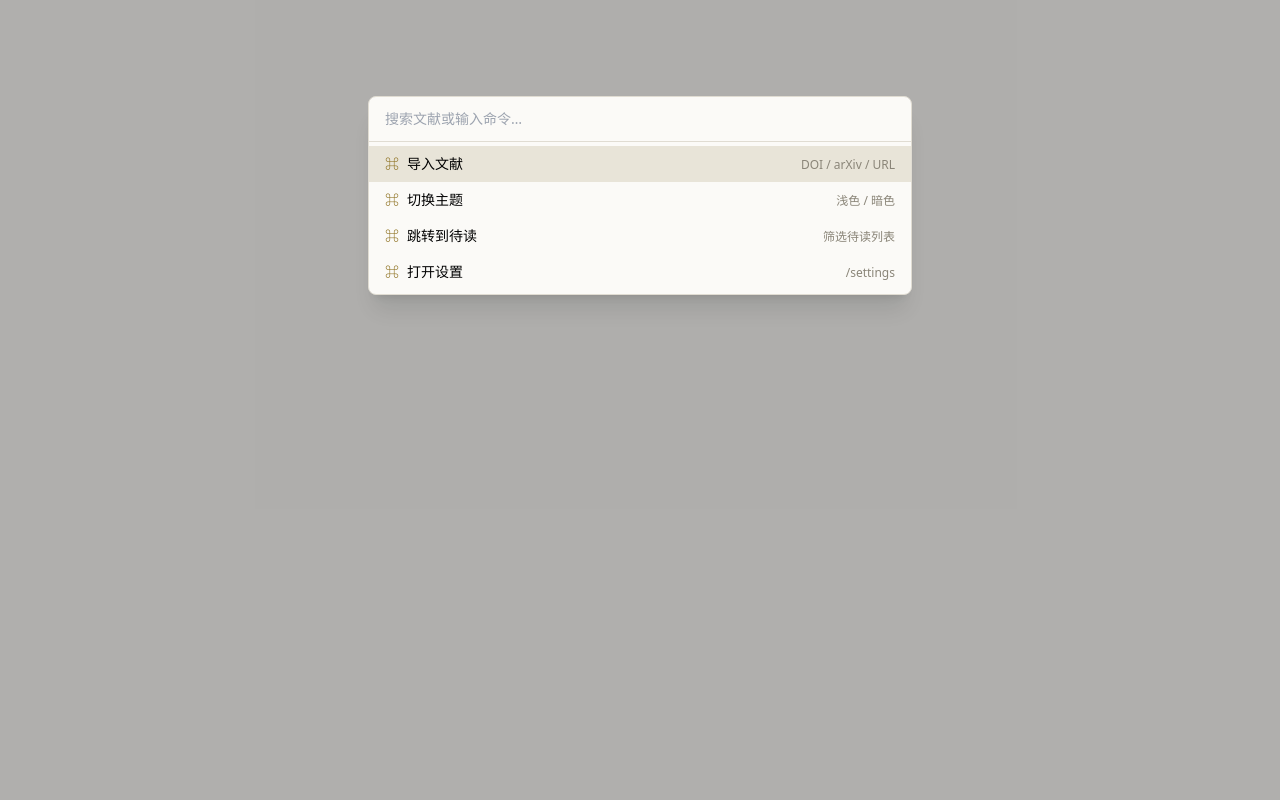
Test: ⌘K 命令面板 › 命令按关键词过滤
Step 1. Type "主题" into the field named "命令面板输入" → (640, 120), box [369,97,911,142]
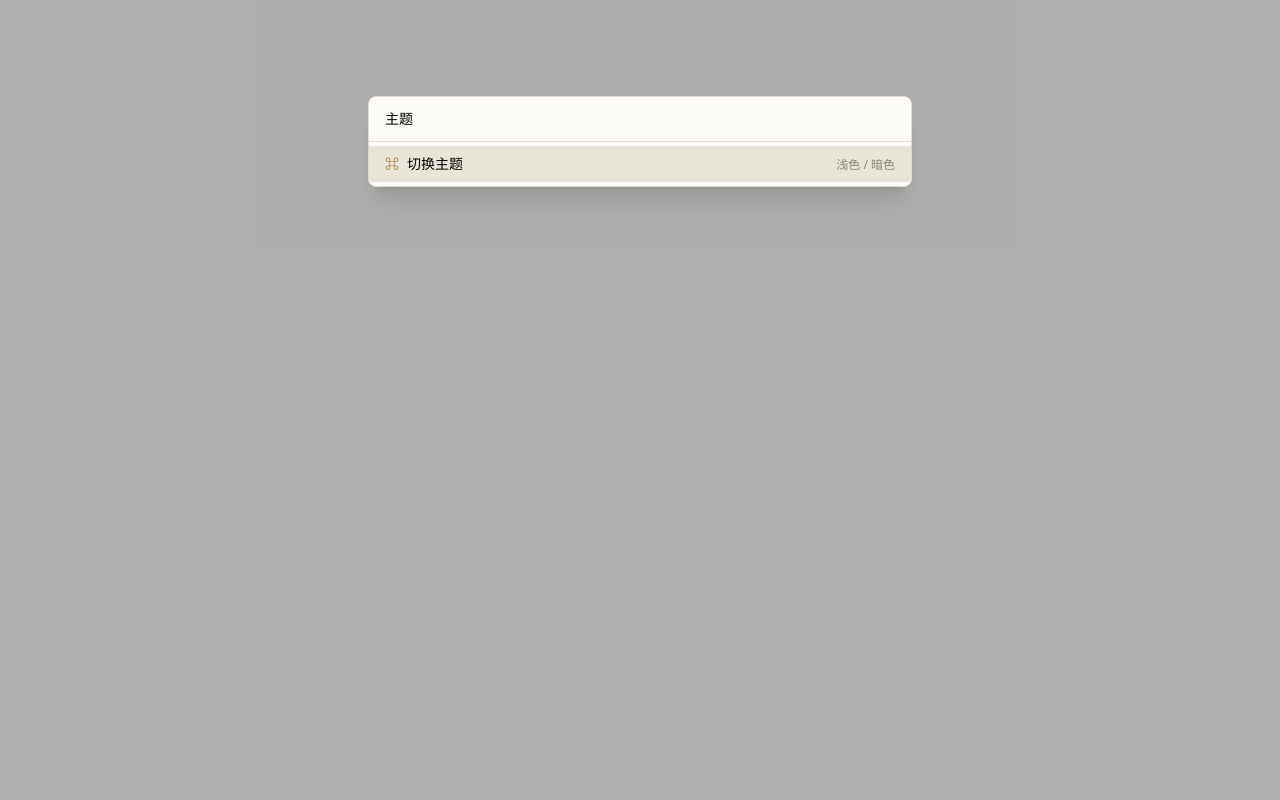
expect the text "切换主题" is shown: met, box [407,154,463,174]
expect the button "导入文献" is gone: met
